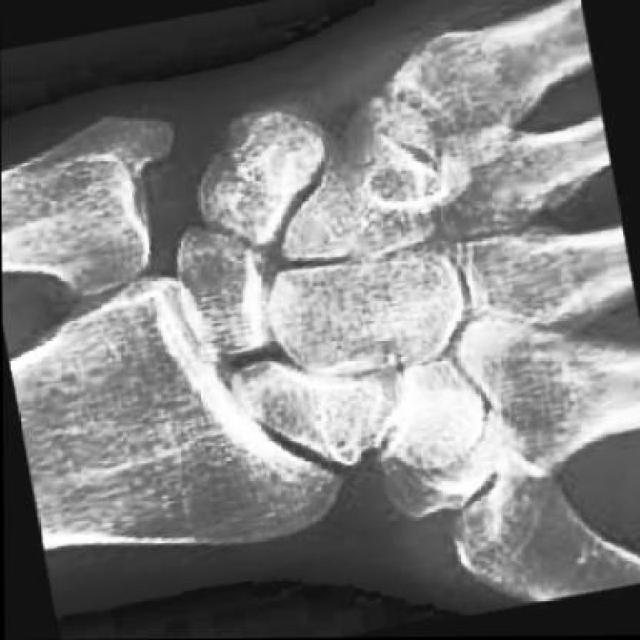Fracture: (354, 100, 476, 222)
